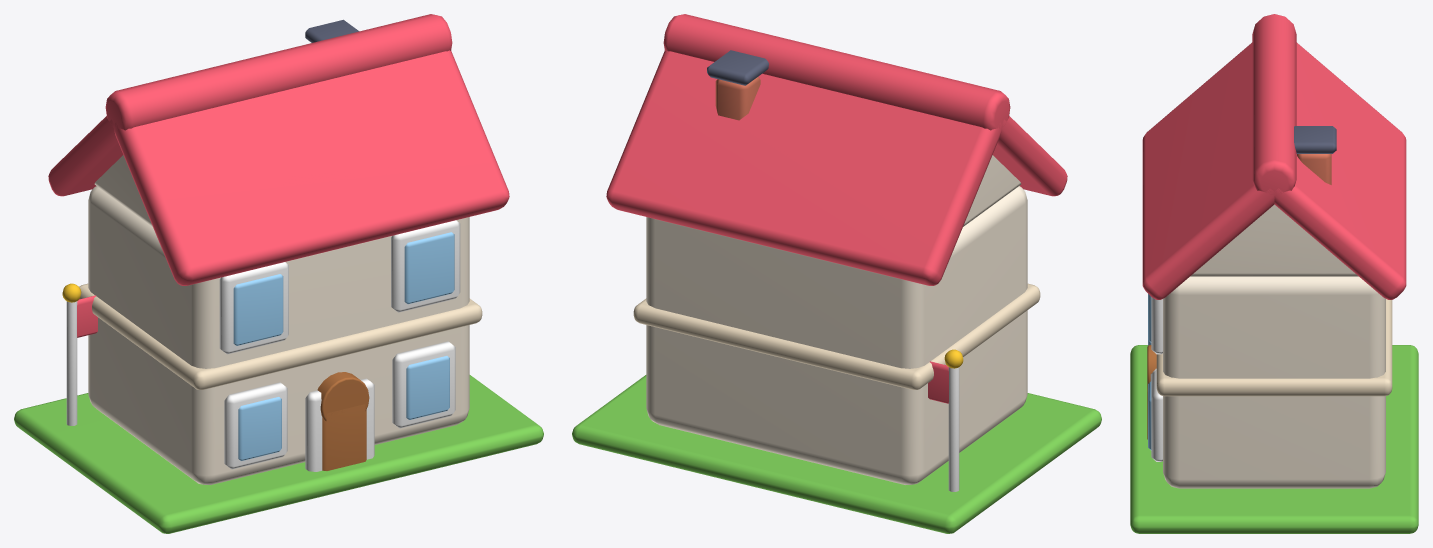
3 views of the same model, side by side, from view 1: azimuth 30°, elevation 25°; view 2: azimuth 150°, elevation 25°; view 3: azimuth 270°, elevation 25° (orthographic). The views are drawn at different scales.
Visible parts, largest first — view 1: Cube; view 2: Cube; view 3: Cube.
Boxes of the visible parts, x1,y1,x2,y2 form: Cube: (14,14,543,533); Cube: (572,14,1101,533); Cube: (1130,14,1418,533).
Size of the model in its own units: 0.64 by 0.6085 by 0.44.
